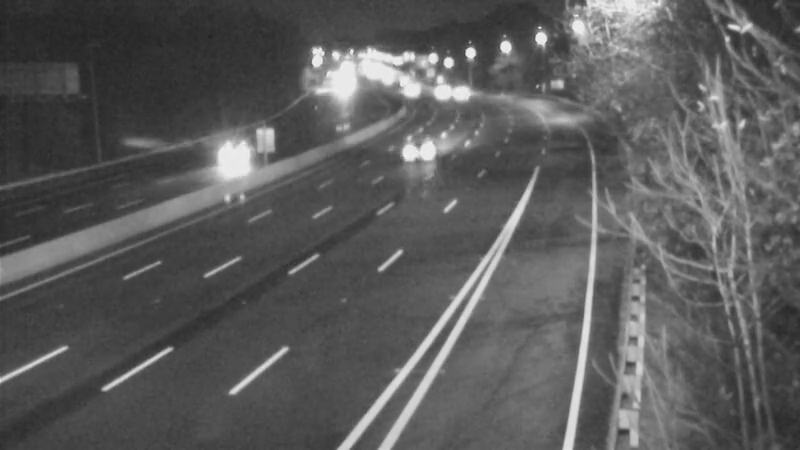vehicle: (187, 125, 267, 205), (411, 62, 461, 112), (423, 66, 473, 116), (401, 108, 451, 158)
